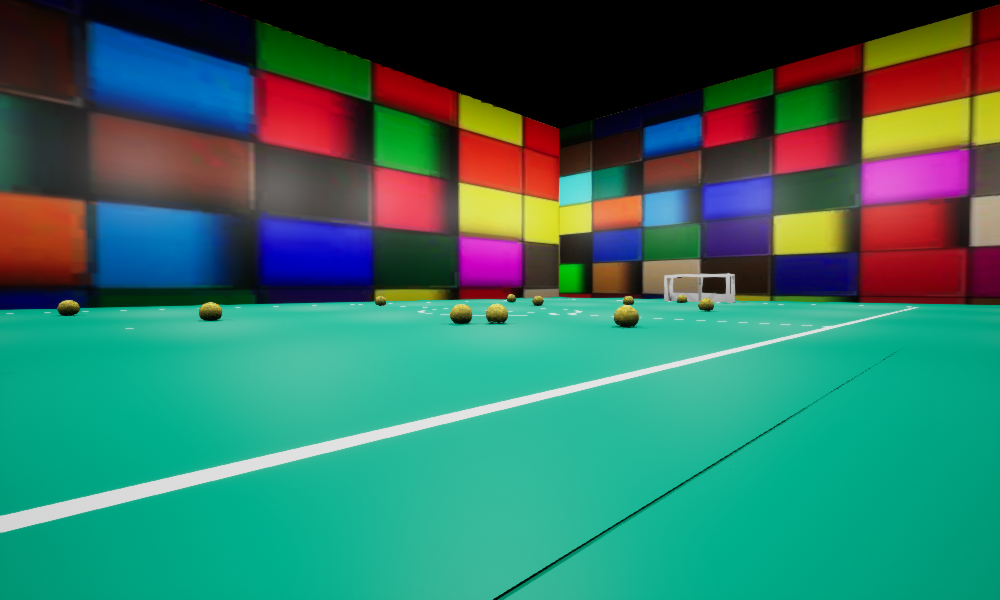b: (614, 305, 638, 326), (486, 303, 507, 323), (450, 304, 471, 323), (199, 302, 221, 320), (57, 300, 79, 314), (698, 298, 713, 310), (532, 296, 543, 305), (375, 296, 385, 305), (623, 296, 633, 304), (677, 295, 686, 302), (507, 294, 515, 301)
g: (664, 273, 734, 302)
